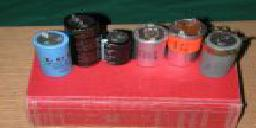Electrolytic Capacitor: (28, 26, 72, 87), (206, 23, 245, 88), (169, 13, 202, 80), (135, 19, 167, 76), (101, 26, 133, 72), (62, 12, 99, 33)
